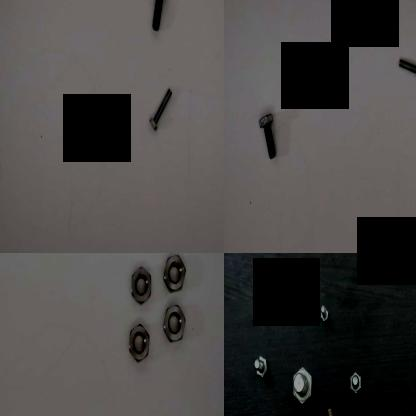Bolts: (258, 102, 278, 170), (148, 86, 174, 133), (287, 364, 315, 404), (251, 350, 271, 382), (150, 0, 168, 35), (394, 57, 416, 83), (348, 370, 362, 400), (316, 300, 332, 326)
NUTS: (126, 320, 152, 366), (130, 266, 154, 310), (162, 253, 186, 296), (161, 302, 185, 344)
